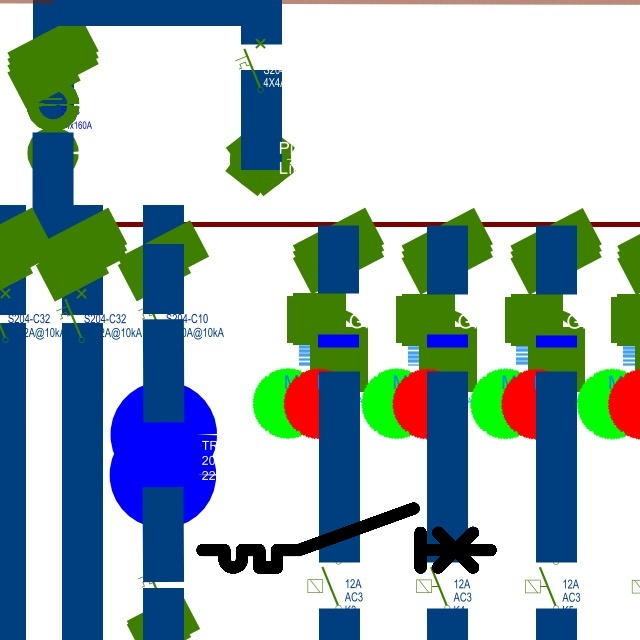interruptor_termomagnetico: (195, 501, 498, 575)
